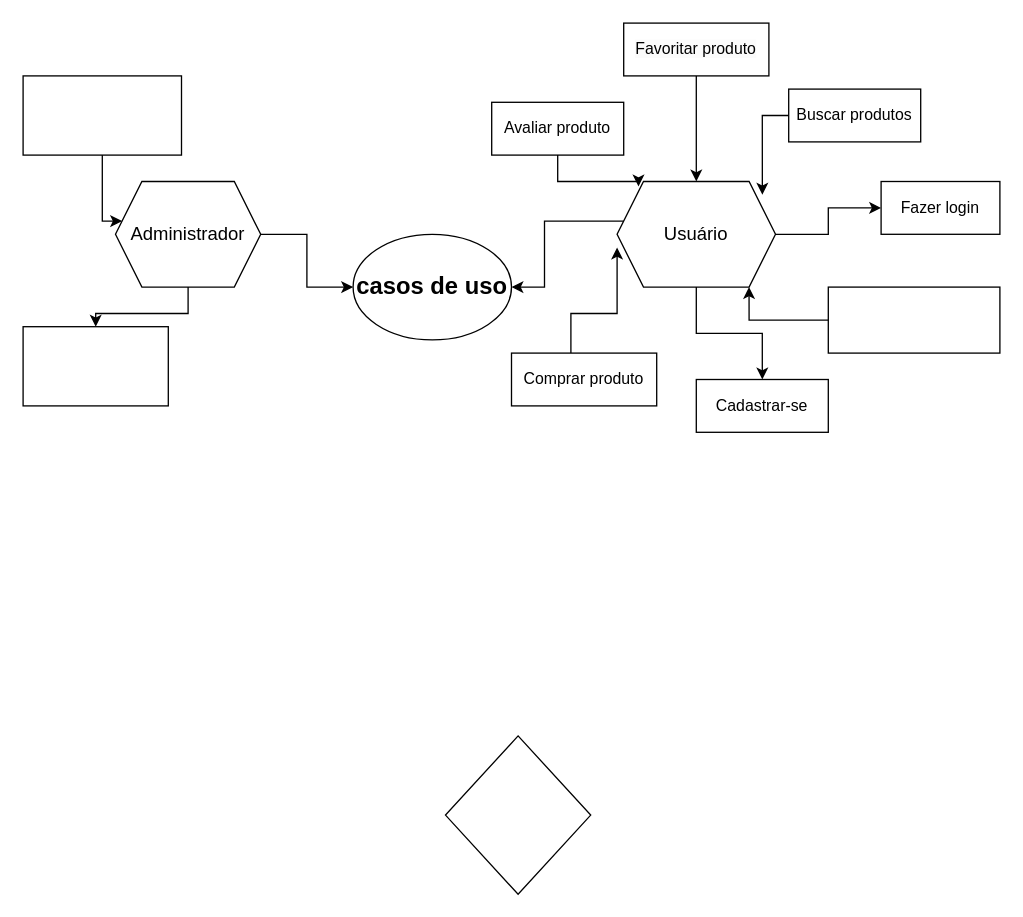
Image size: 1023x917. Some labels were removed from this diagram. Here are the shapes that lost their labels. From the top down, the centre of each, then its label:
At point 102,115: "Gerenciar produtos".
At point 913,319: "Adicionar produto ao carrinho".
At point 95,365: "Gerenciar pedidos".
At point 517,814: "Processo de compra".
